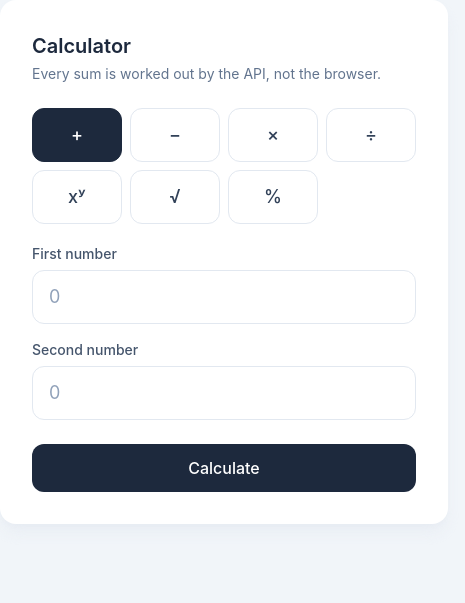
Test case: client-side validation › rejects a non-numeric first operand
Type "abc" into the field labelled "First number" at [224, 297], box 32,270 -> 416,324
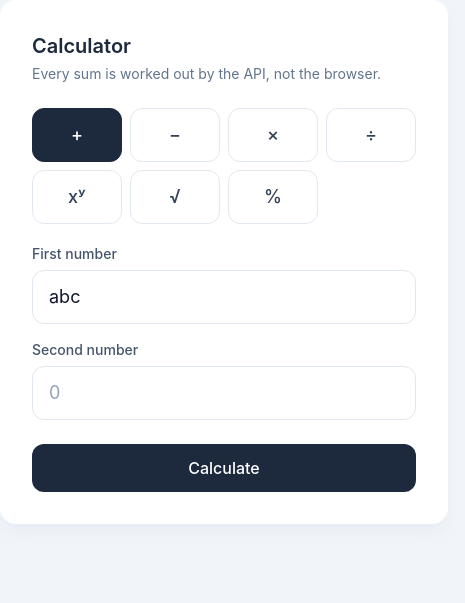
Type "3" into the field labelled "Second number" at [224, 393], box 32,366 -> 416,420
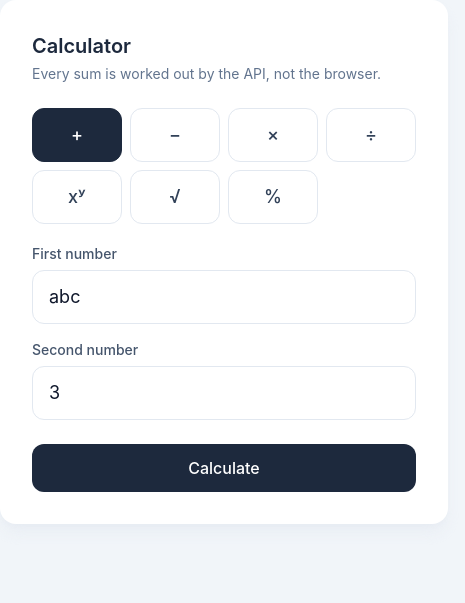
Click the button "Calculate" at [224, 468], box 32,444 -> 416,492
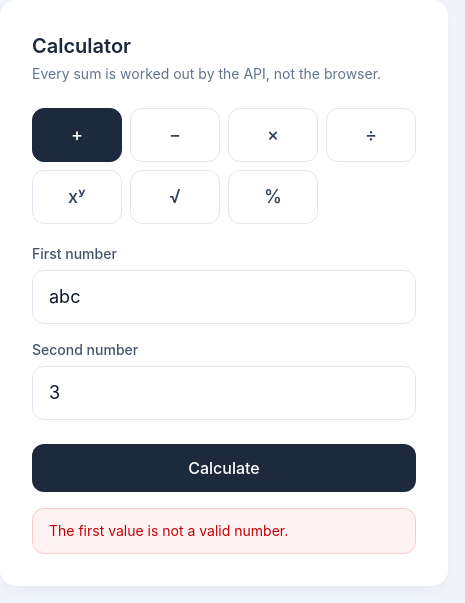
Expected: the message shows "valid number", 49,522 -> 288,539
